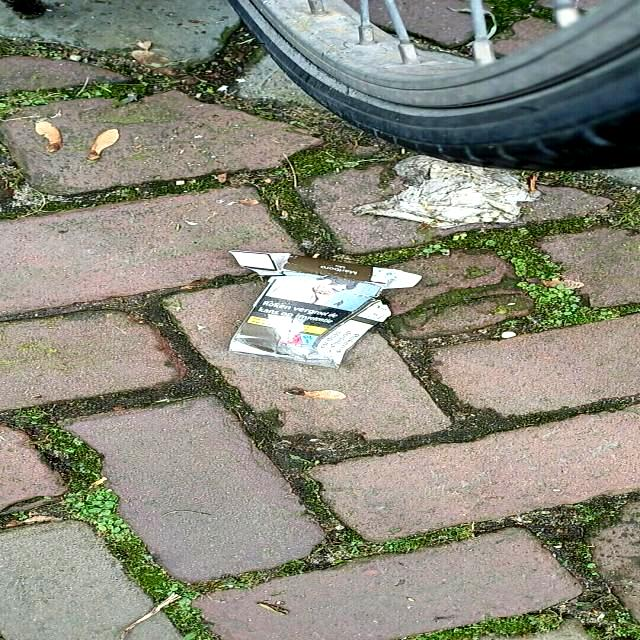Paper: (224, 248, 423, 369)
